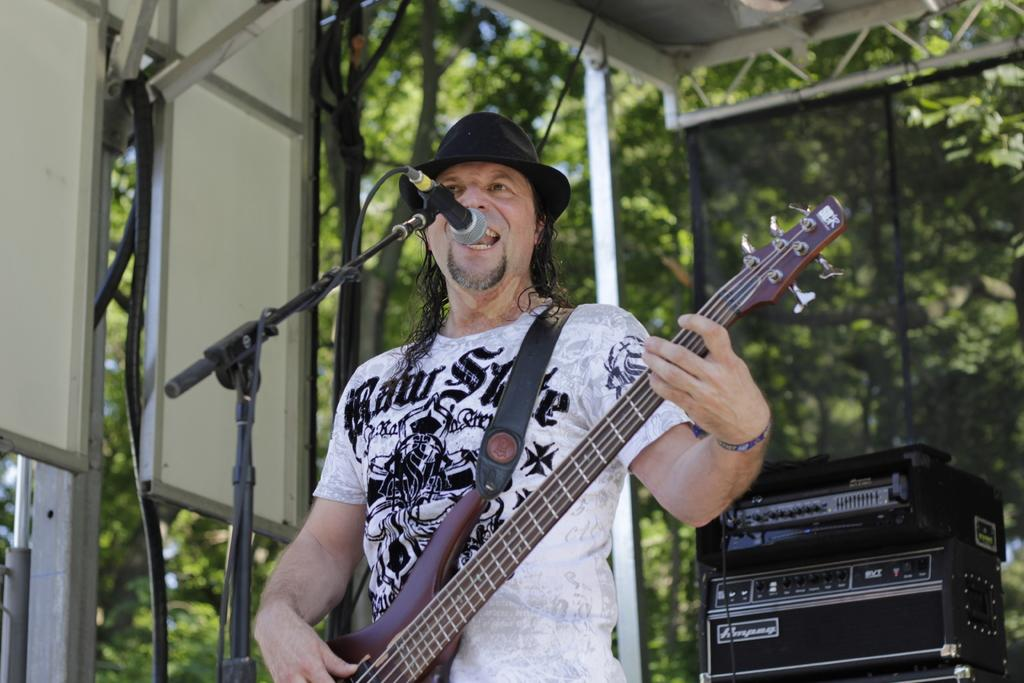Hat: (398, 110, 571, 222)
